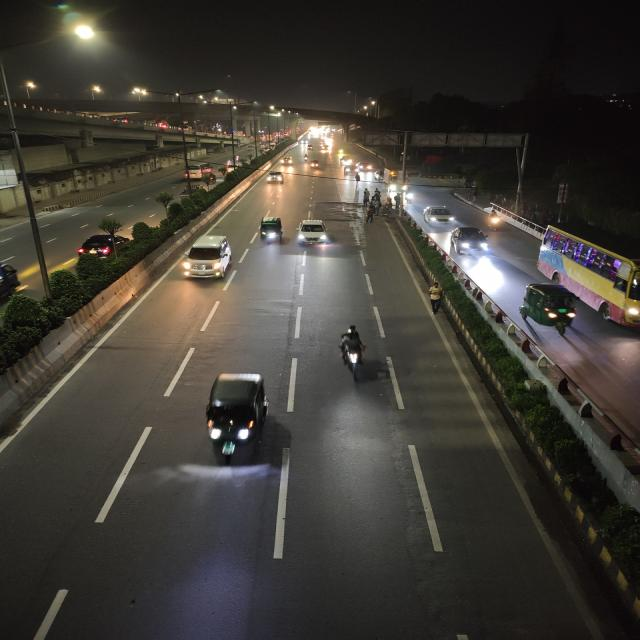bus: (532, 220, 640, 329)
car: (178, 232, 236, 286), (71, 231, 129, 265), (448, 225, 493, 258), (295, 217, 330, 246), (422, 204, 460, 228), (182, 162, 216, 180), (264, 170, 286, 185), (278, 155, 296, 169)
cng: (193, 370, 276, 468), (520, 281, 582, 333), (256, 213, 285, 247), (307, 159, 321, 171)
motorcycle: (332, 321, 371, 382), (486, 208, 506, 232), (154, 190, 174, 208)
pedestrian: (423, 279, 444, 316), (364, 209, 376, 224), (371, 191, 382, 207), (359, 187, 369, 203)
